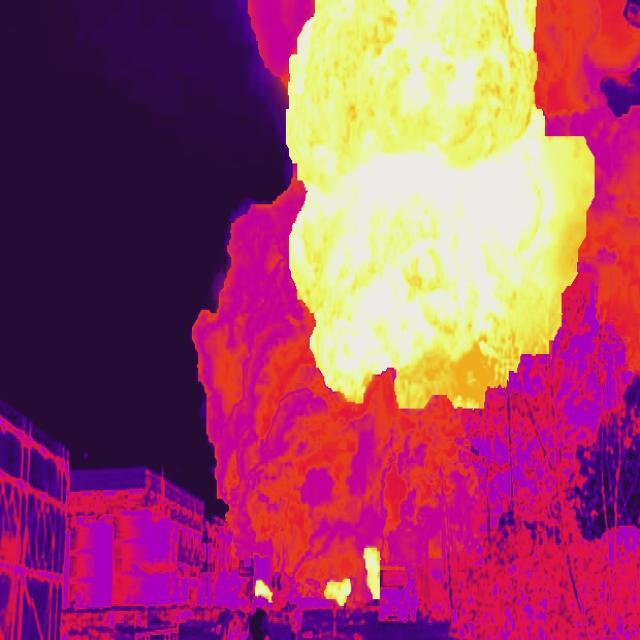fire: (284, 1, 603, 416), (251, 549, 388, 614)
